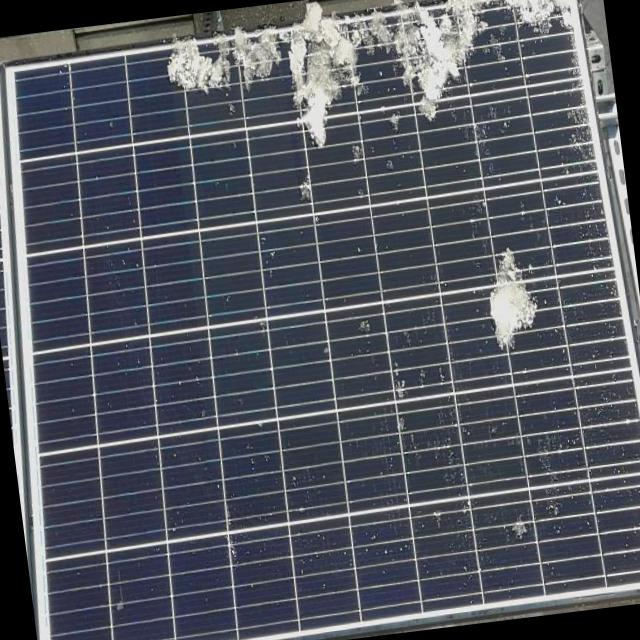faulty: (18, 0, 640, 640)
